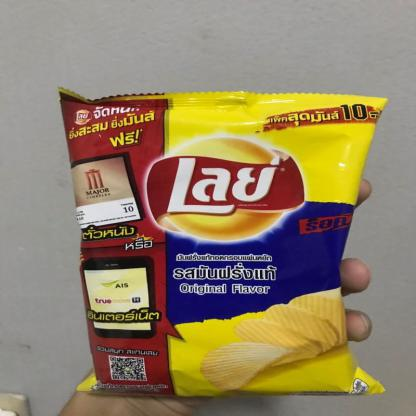potatochip: (49, 81, 399, 404)
